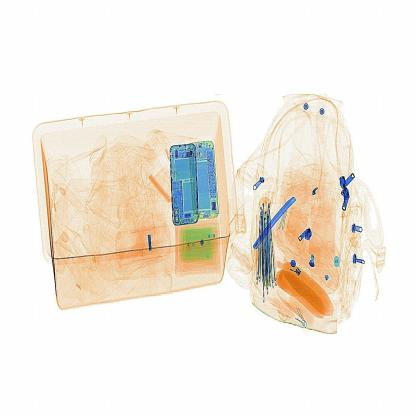pliers: (249, 181, 306, 259)
